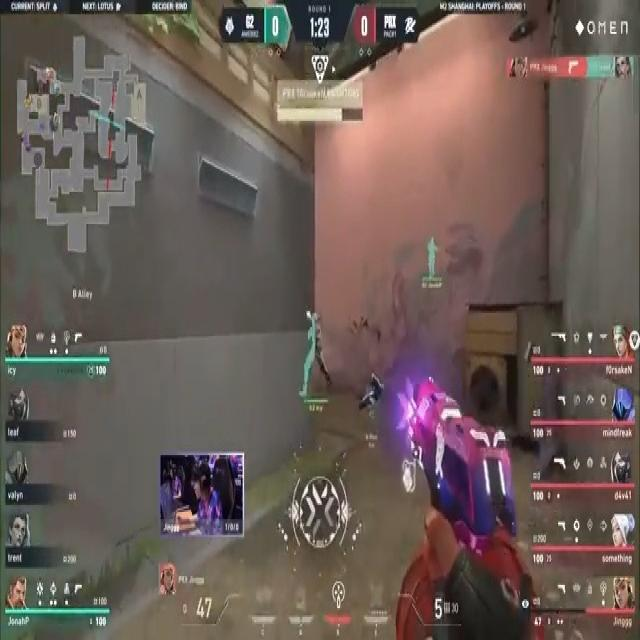ally behind wall: (305, 307, 329, 406), (425, 235, 441, 285)
